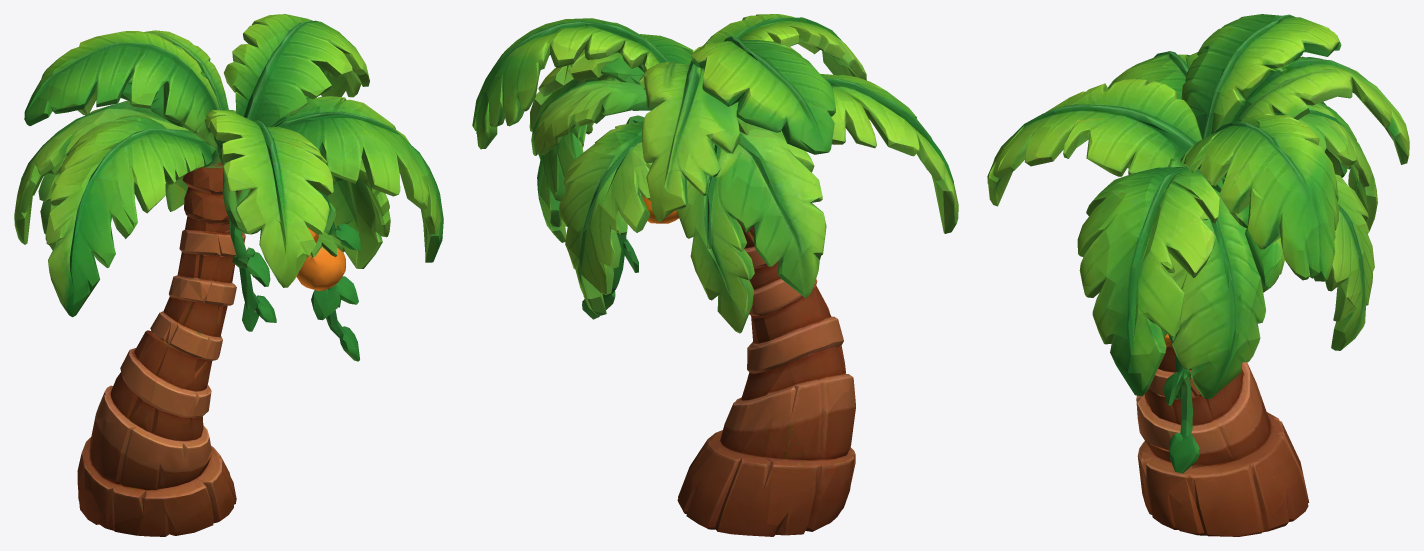
File: tree_jungle.glb
3 views of the same model, side by side, from view 1: azimuth 30°, elevation 25°; view 2: azimuth 150°, elevation 25°; view 3: azimuth 270°, elevation 25° (orthographic). The views are drawn at different scales.
Visible parts, largest first — view 1: output_unwrapped; view 2: output_unwrapped; view 3: output_unwrapped.
Boxes of the visible parts, x1,y1,x2,y2 form: output_unwrapped: (14,14,443,536); output_unwrapped: (472,14,958,536); output_unwrapped: (987,14,1409,536).
Size of the model in its own units: 1.72 by 1.9 by 1.51.
1 material, 1 textured.
